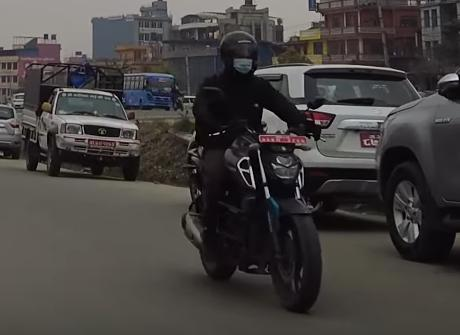bike: (176, 93, 340, 316)
